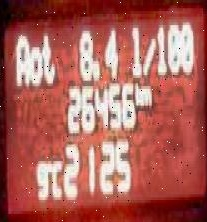-: (90, 58, 99, 80)
0: (165, 19, 180, 72), (179, 19, 193, 72)
1: (155, 22, 165, 72), (86, 141, 94, 194)
2: (61, 141, 79, 200), (98, 138, 114, 194), (65, 83, 79, 133)
4: (103, 22, 119, 77), (93, 83, 108, 127)
5: (113, 136, 130, 191), (106, 80, 120, 127)
6: (120, 78, 135, 128), (79, 83, 94, 130)
8: (77, 25, 93, 78)
9: (34, 158, 48, 197)
X: (40, 27, 54, 83), (14, 30, 28, 83), (129, 22, 140, 75), (141, 33, 155, 74), (29, 41, 41, 83), (50, 155, 61, 200), (140, 83, 151, 105), (134, 80, 140, 105)
